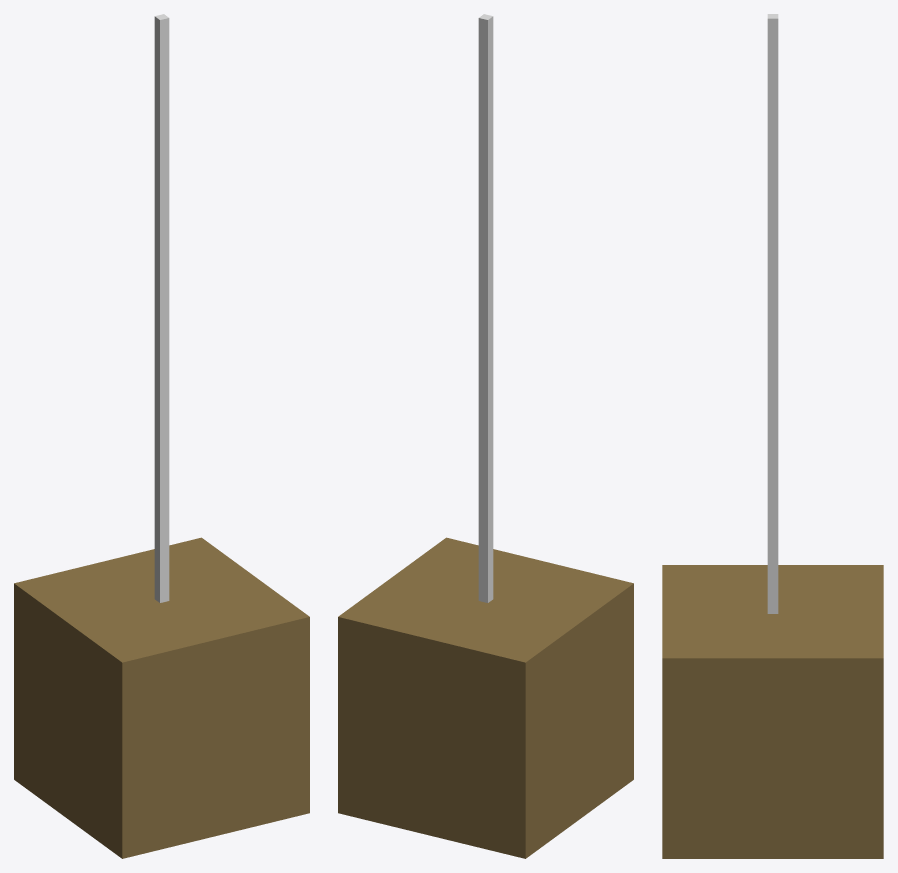
Rendered from Revealing Box.fbx.
3 views of the same model, side by side, from view 1: azimuth 30°, elevation 25°; view 2: azimuth 150°, elevation 25°; view 3: azimuth 270°, elevation 25° (orthographic). The views are drawn at different scales.
Parts seen in each view (by area): view 1: Cube; view 2: Cube; view 3: Cube.
Part boxes in pixels (left/top/right/bottom): Cube: left=14, top=14, right=309, bottom=858; Cube: left=338, top=14, right=633, bottom=858; Cube: left=662, top=14, right=883, bottom=858.
Size of the model in its own units: 165 by 654 by 165.
